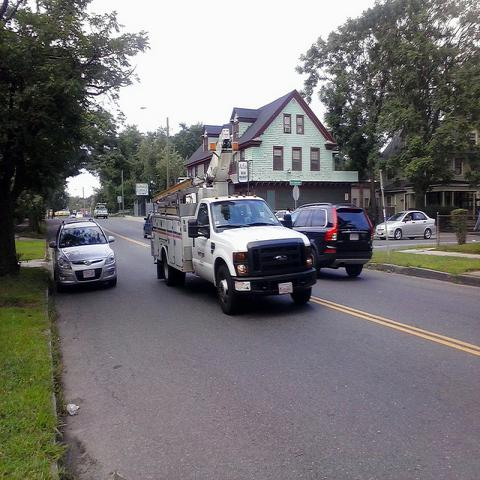car: (278, 203, 374, 278), (50, 219, 116, 293), (376, 209, 437, 240), (93, 202, 108, 218), (274, 210, 286, 220), (70, 214, 76, 218)
truck: (151, 123, 317, 315)
